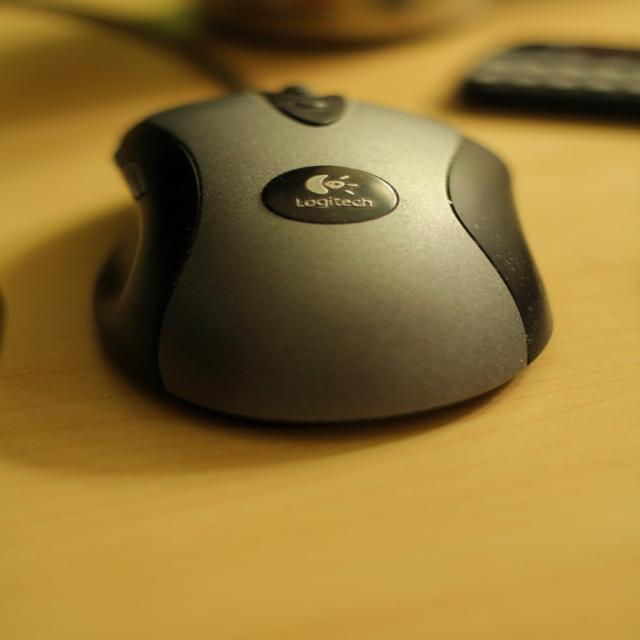Computer-mouse: (94, 82, 552, 424)
